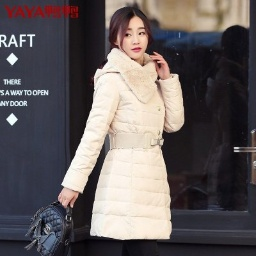face: (102, 1, 164, 67)
